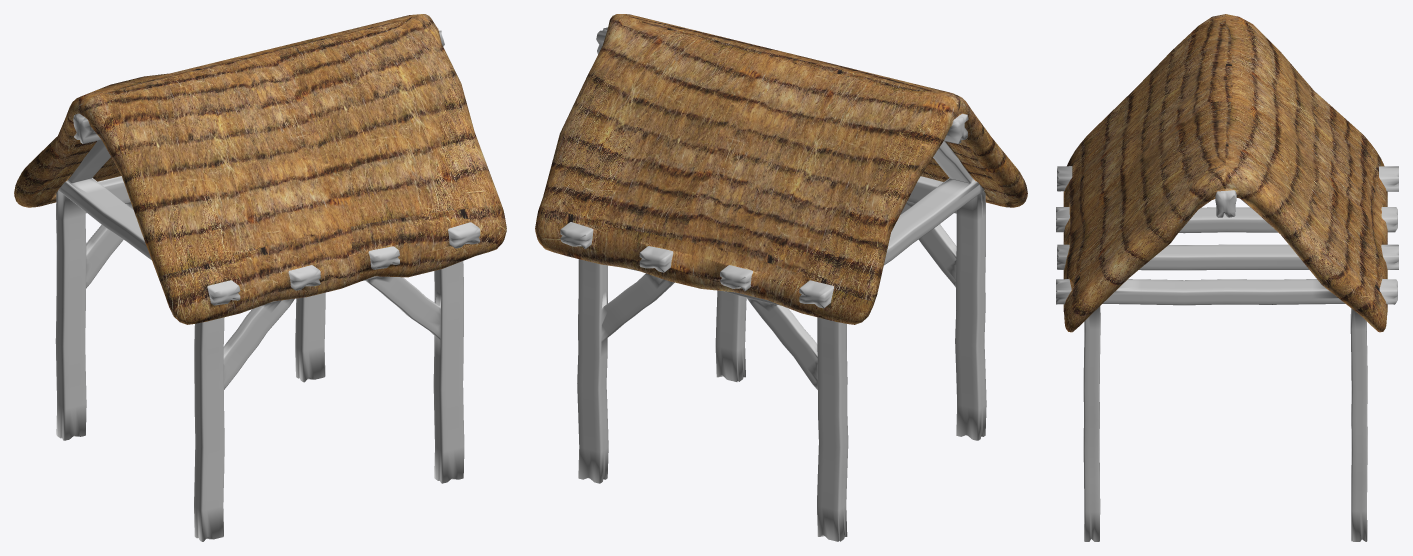
Rendered from Hut_OneMesh.fbx.
3 views of the same model, side by side, from view 1: azimuth 30°, elevation 25°; view 2: azimuth 150°, elevation 25°; view 3: azimuth 270°, elevation 25° (orthographic). The views are drawn at different scales.
Visible parts, largest first — view 1: plank; view 2: plank; view 3: plank.
Part boxes in pixels (x1,y1,x2,y2): plank: (14,14,506,541); plank: (535,14,1027,541); plank: (1056,14,1398,541).
Size of the model in its own units: 905 by 965 by 770.
